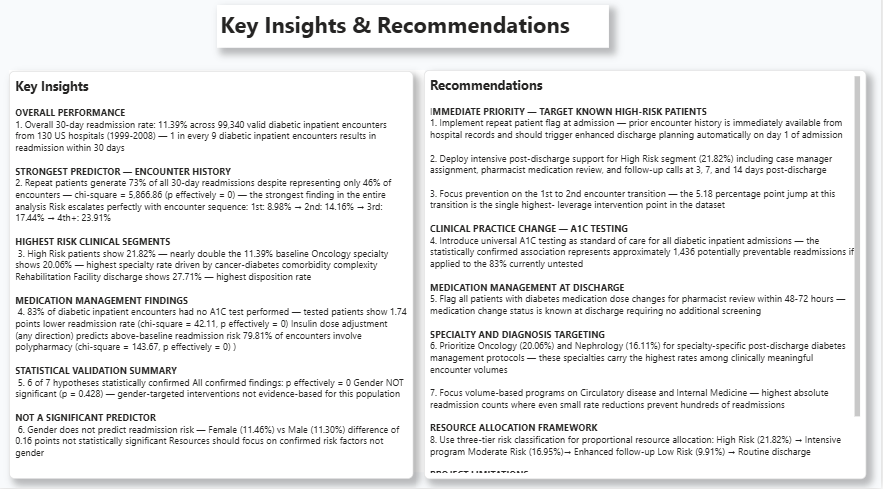

Layout of this report page (visuals, bound fields, positions):
{"tool":"powerbi","page":{"name":"Insights","canvas":[1280,720],"ordinal":5},"visuals":[{"type":"textbox","box":[319.2,20.2,567.8,62.2],"z":0},{"type":"textbox","box":[17.3,115.2,603.4,583.2],"z":1000},{"type":"textbox","box":[17.4,115.9,585.5,591.3],"z":2000},{"type":"textbox","box":[618.8,114.5,640.6,592.8],"z":3000}]}

Visuals, with their boxes in screenshot pixels (x1, y1, x2, y2), scaled from the page's 1280x720 canvas onto the 883x489 screenshot:
textbox: 220, 14, 612, 56
textbox: 12, 78, 428, 474
textbox: 12, 79, 416, 480
textbox: 427, 78, 869, 480
